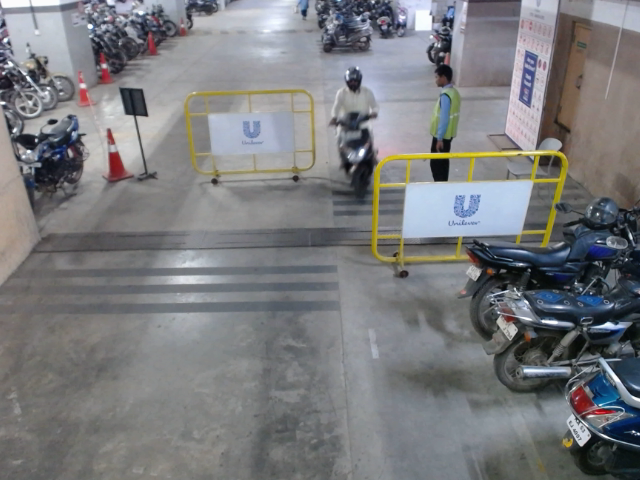with_helmet: (342, 65, 363, 92)
